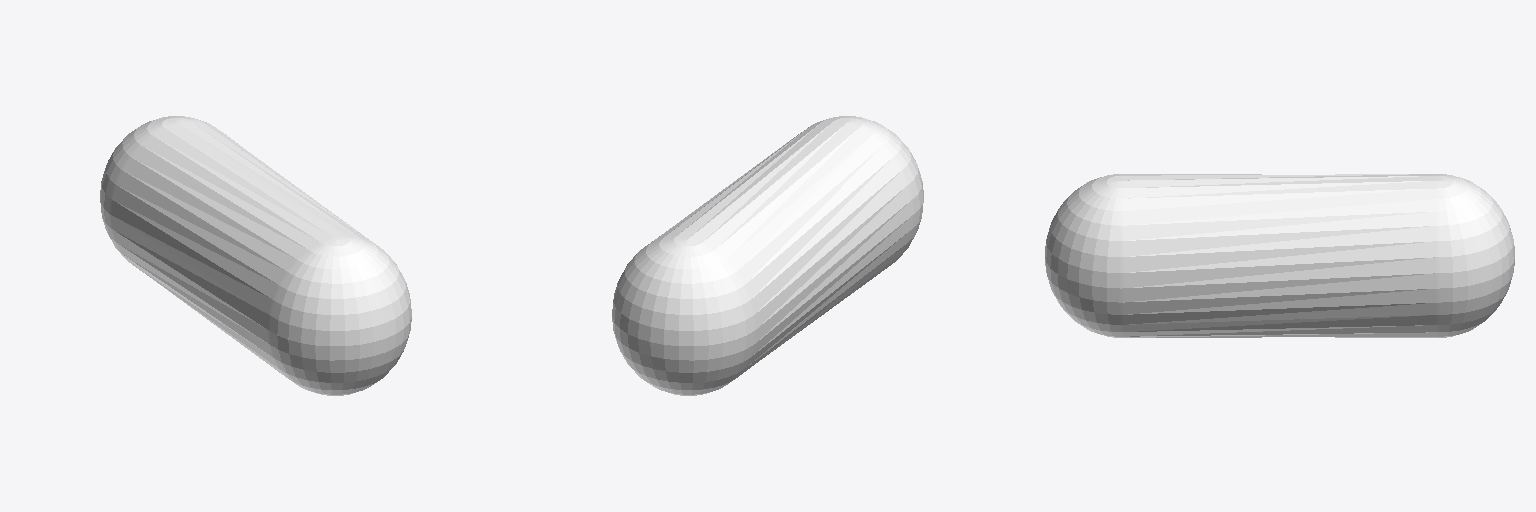
3 renders of one model, left to right at view 1: azimuth 30°, elevation 25°; view 2: azimuth 150°, elevation 25°; view 3: azimuth 270°, elevation 25°, orthographic.
Visible parts, largest first — view 1: Object002; view 2: Object002; view 3: Object002.
Boxes of the visible parts, x1,y1,x2,y2 form: Object002: [100, 116, 411, 395]; Object002: [612, 116, 923, 395]; Object002: [1045, 174, 1514, 337].
Bounding box in the file's own units: 3 × 3.24 × 9.17.
1 materials, 1 textured.